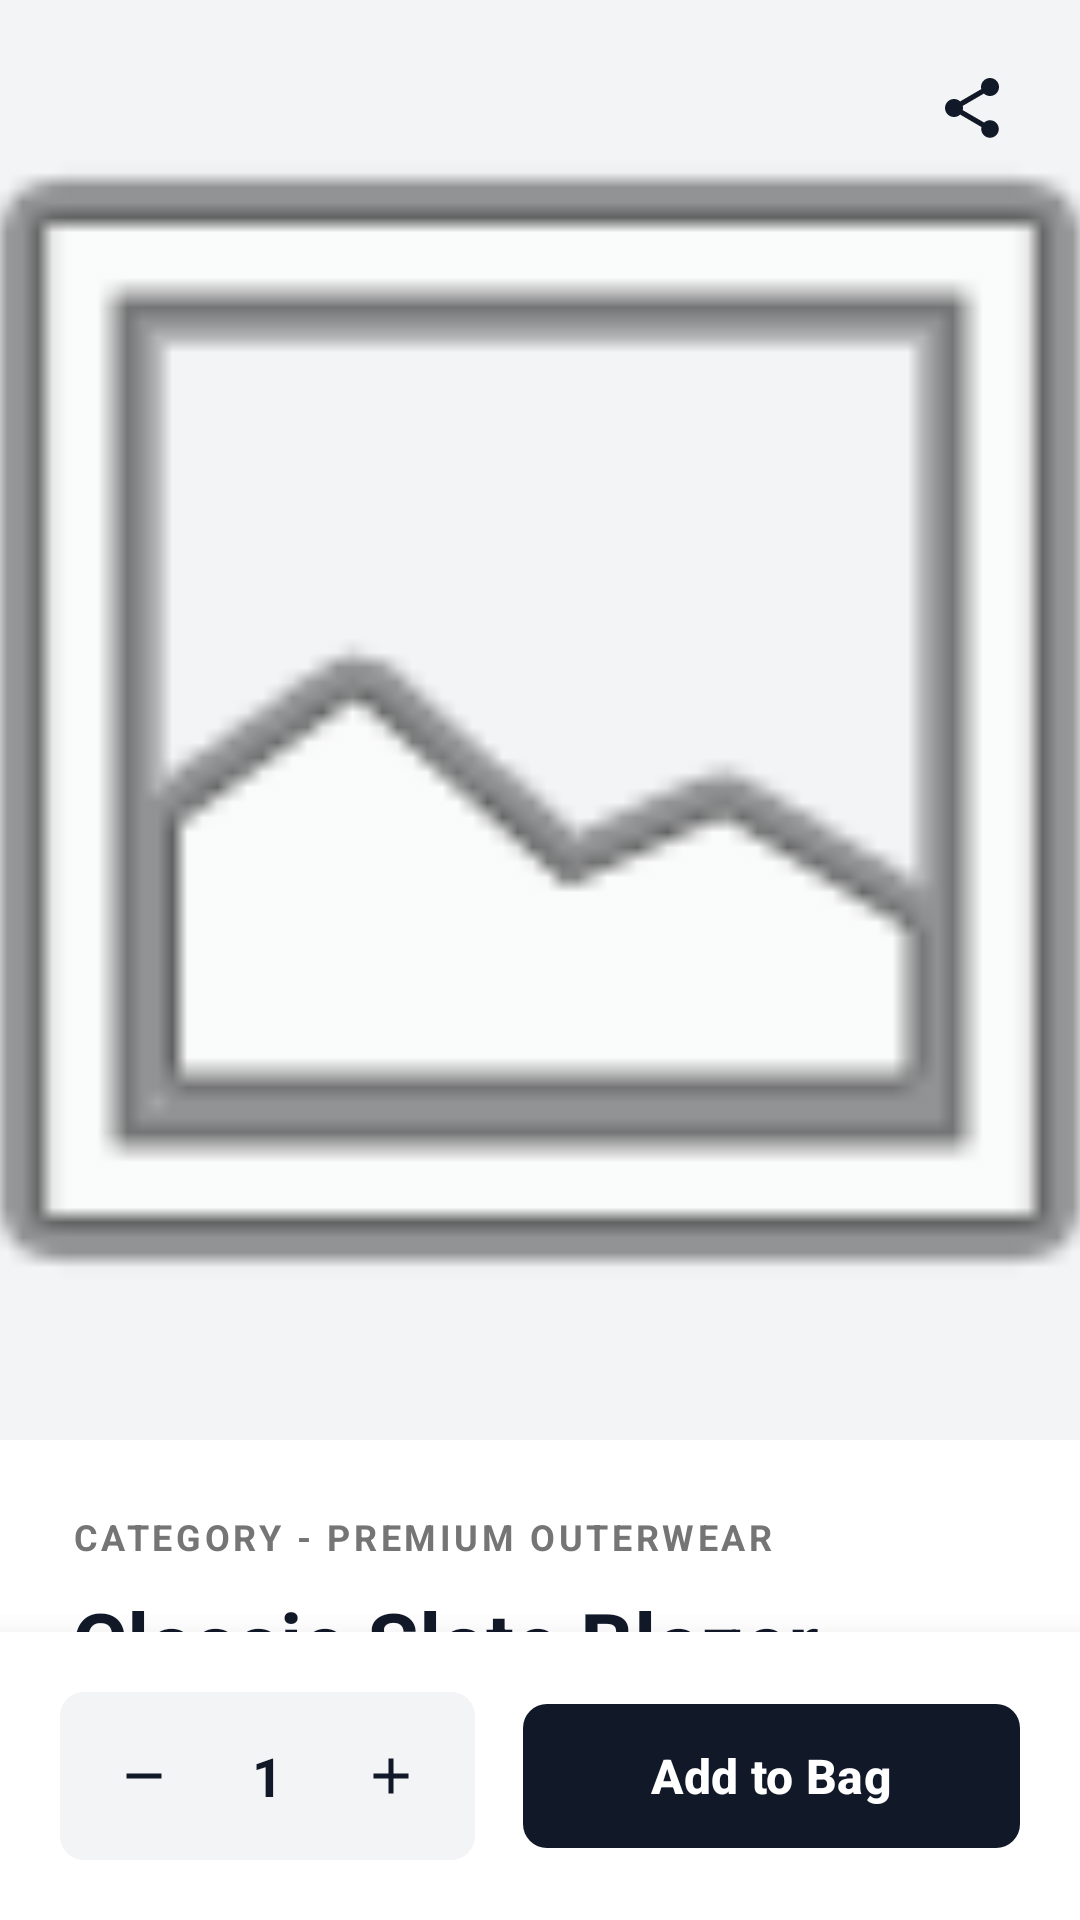

Where to tap for icons on this 1080w x 1920h app screen, as (x=x, y=y):
remove: (x=144, y=1776)
share: (x=972, y=108)
